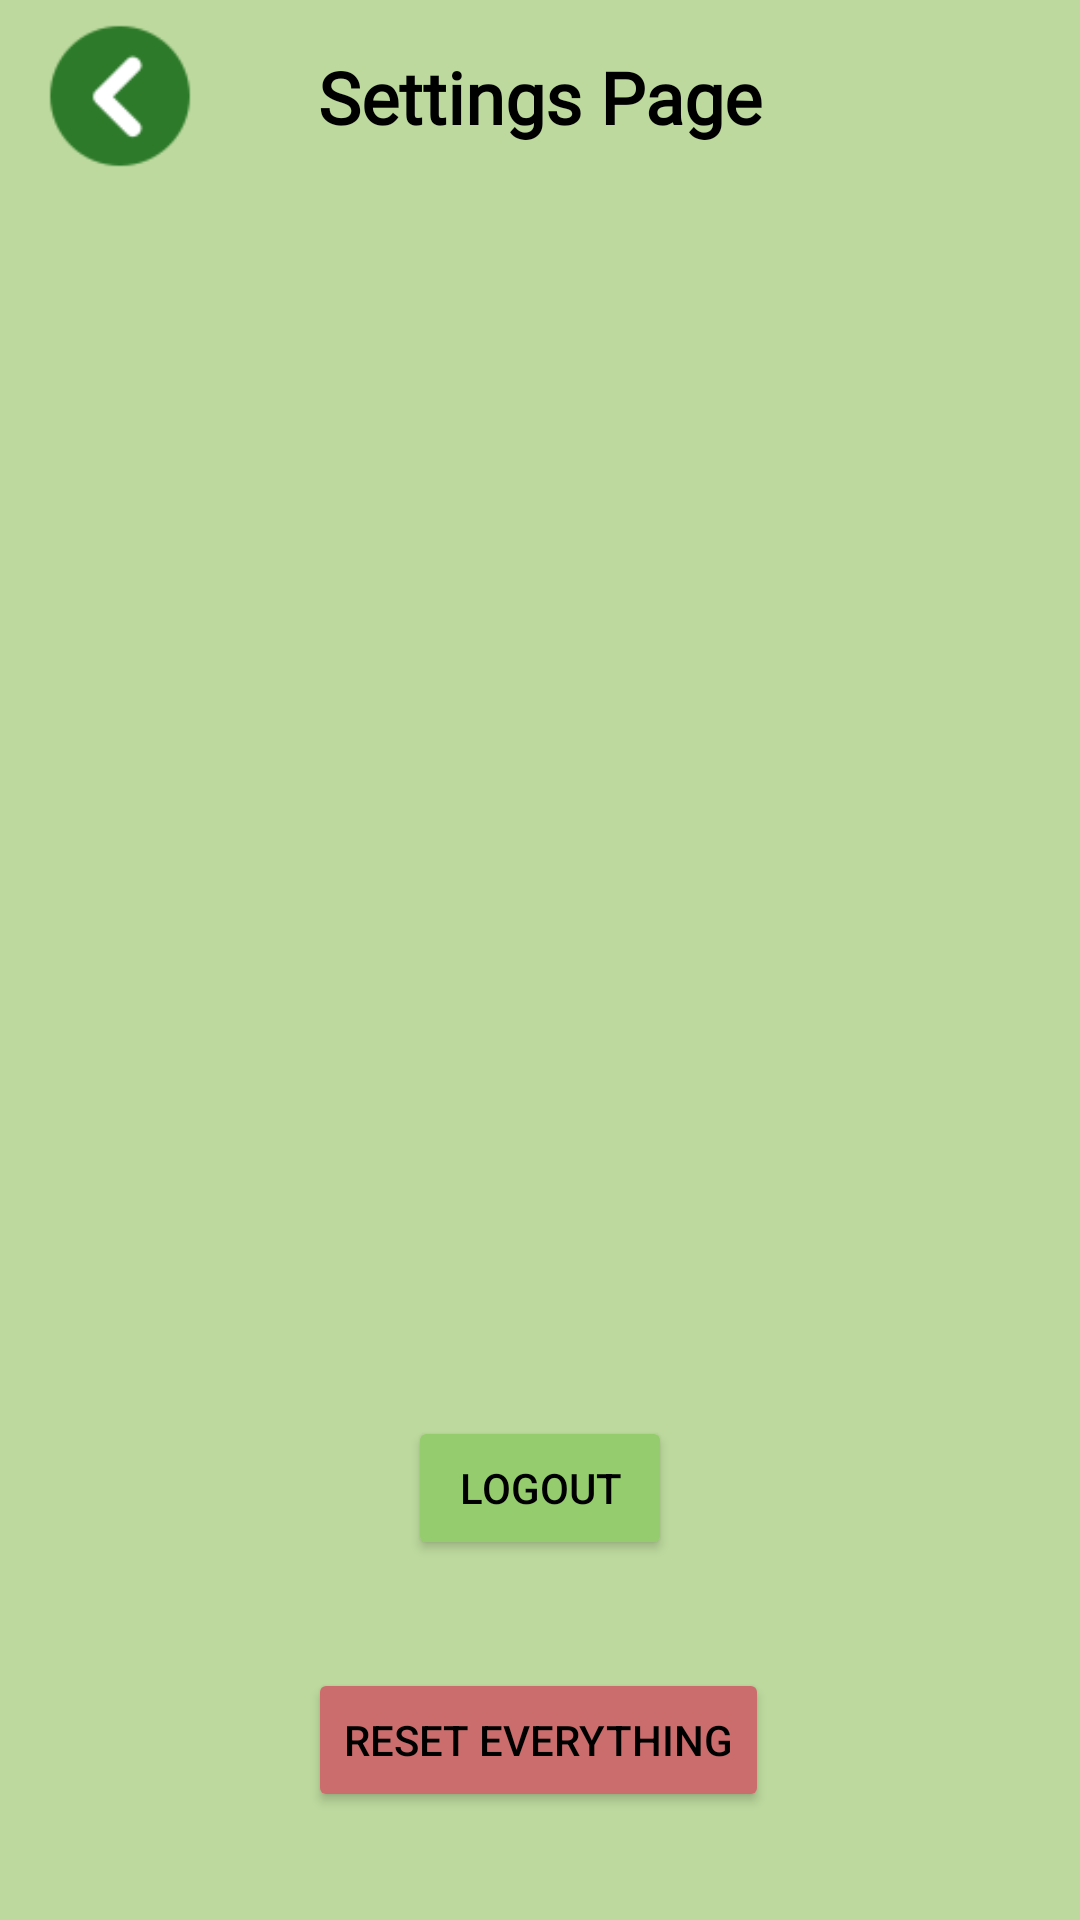

Icon bounding boxes for this 1080 x 1920 phone screenshot, format [x1, y1, x2, y2]:
back: [50, 26, 190, 166]
